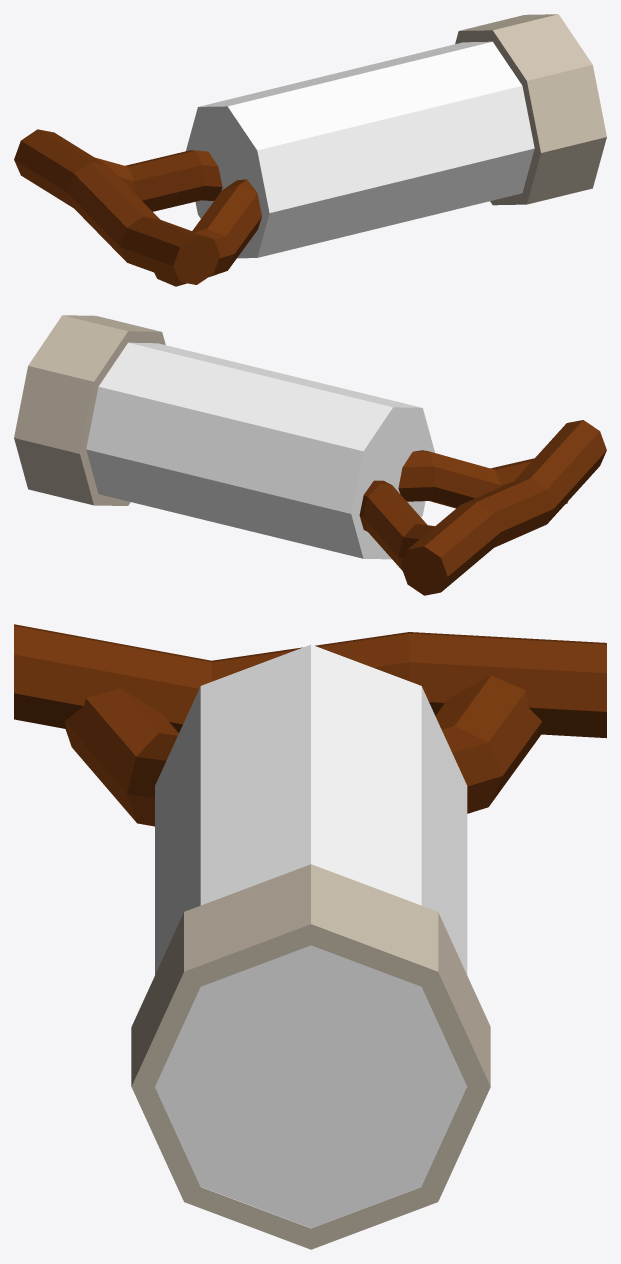
Rendered from Levier_Moyen.FBX.
The picture shows the model from 3 angles, top to bottom: view 1: azimuth 30°, elevation 25°; view 2: azimuth 150°, elevation 25°; view 3: azimuth 270°, elevation 25°; orthographic projection. The views are drawn at different scales.
Visible parts, largest first — view 1: Cylinder218; view 2: Cylinder218; view 3: Cylinder218.
Part boxes in pixels (x1=…): Cylinder218: x1=14, y1=14, x2=606, y2=286; Cylinder218: x1=14, y1=315, x2=606, y2=595; Cylinder218: x1=14, y1=624, x2=606, y2=1249.
Size of the model in its own units: 252 by 90.55 by 149.
